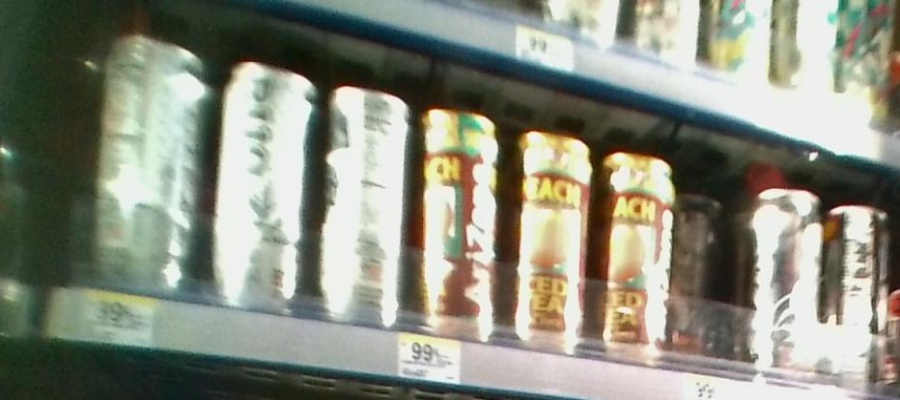bottle: (86, 22, 207, 306), (212, 51, 316, 317), (322, 67, 410, 328), (418, 90, 503, 354), (506, 112, 598, 354), (602, 129, 675, 357), (746, 183, 826, 375), (830, 189, 893, 393), (679, 185, 722, 359)
